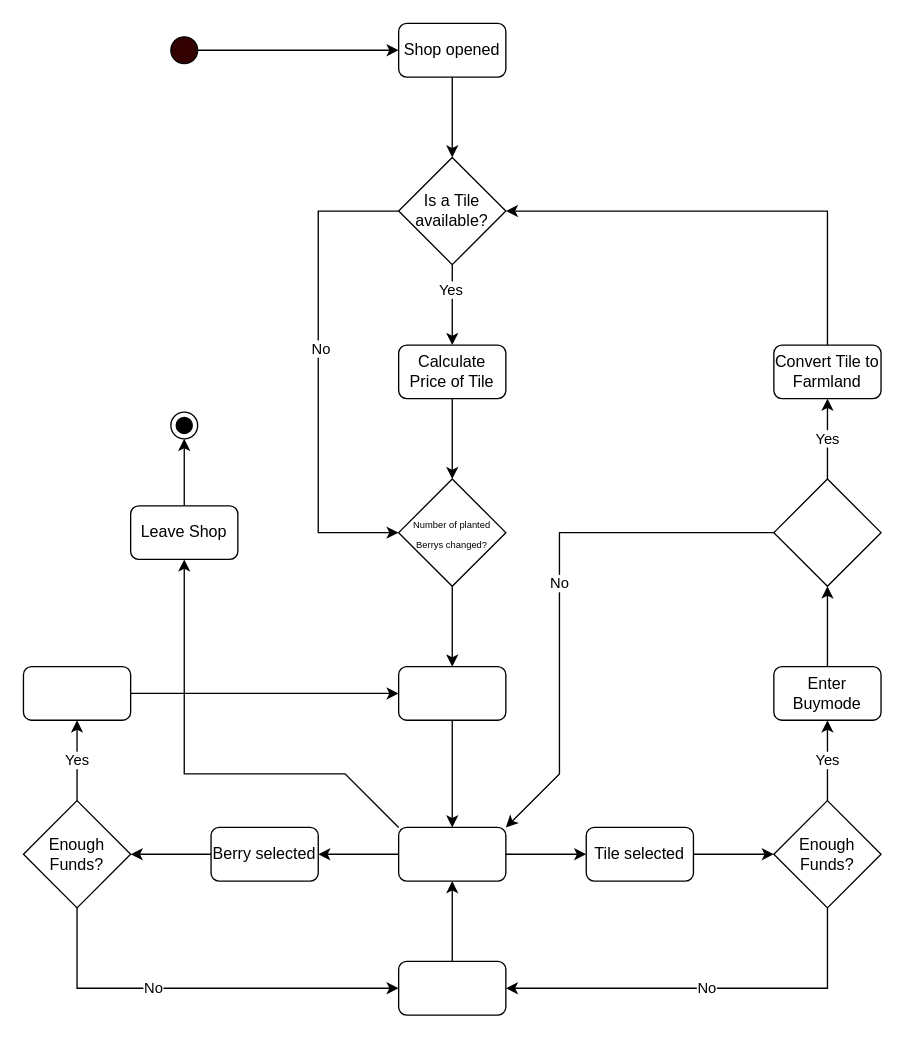
This 905x1039 diagram has some shape labels left out. The centre of each missing label's shape, as x and y in pixels:
Add Berry to Inventory: the point at 76,692
Calculate Price of Berrys: the point at 451,692
Display not enough Funds: the point at 451,987
Display Shop: the point at 451,853
Tile bought?: the point at 827,532
